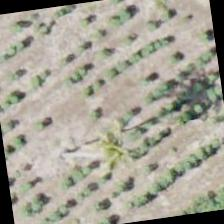Kelapa_Sawit: (58, 102, 160, 204)
